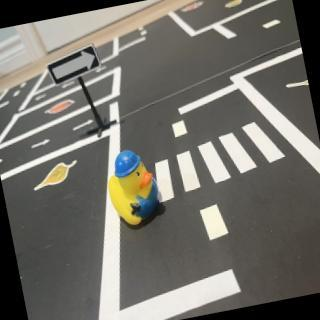duck_specialty: (100, 145, 169, 233)
road_crosswalk: (148, 112, 294, 209)
road_oneway: (28, 135, 56, 154), (66, 120, 96, 134)
sign_oneway_right: (46, 45, 106, 89)
